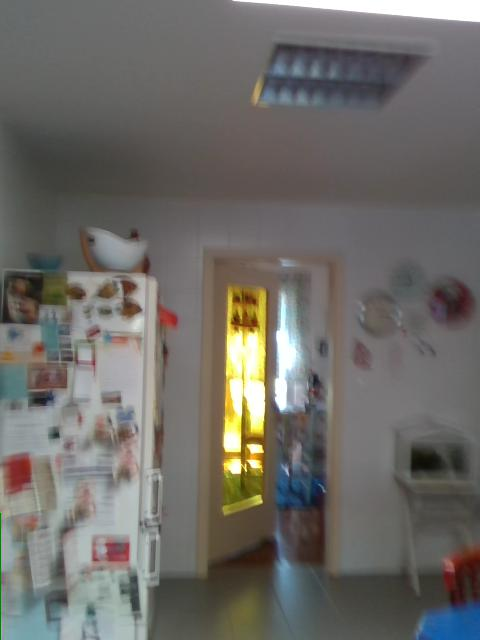semi_door: (193, 239, 349, 580)
